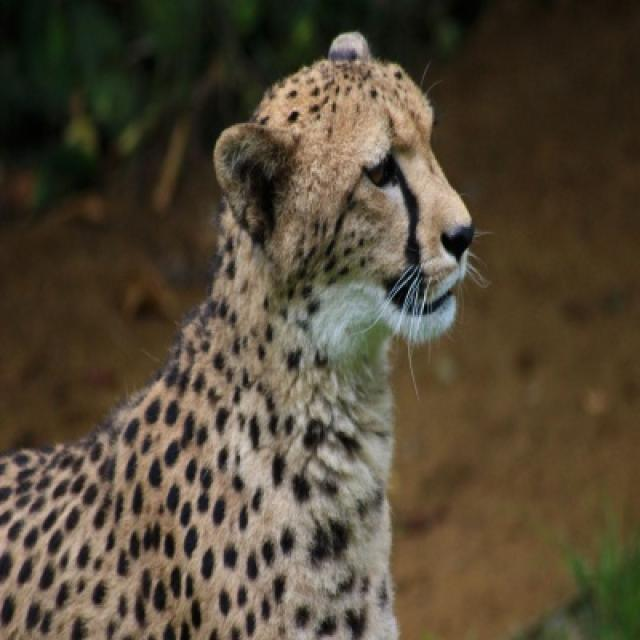Cheetah: (0, 32, 490, 638)
